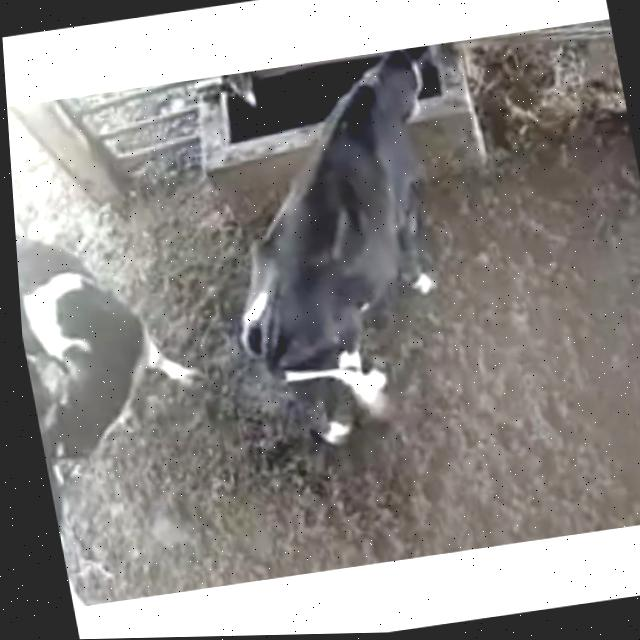drink: (297, 41, 472, 163)
